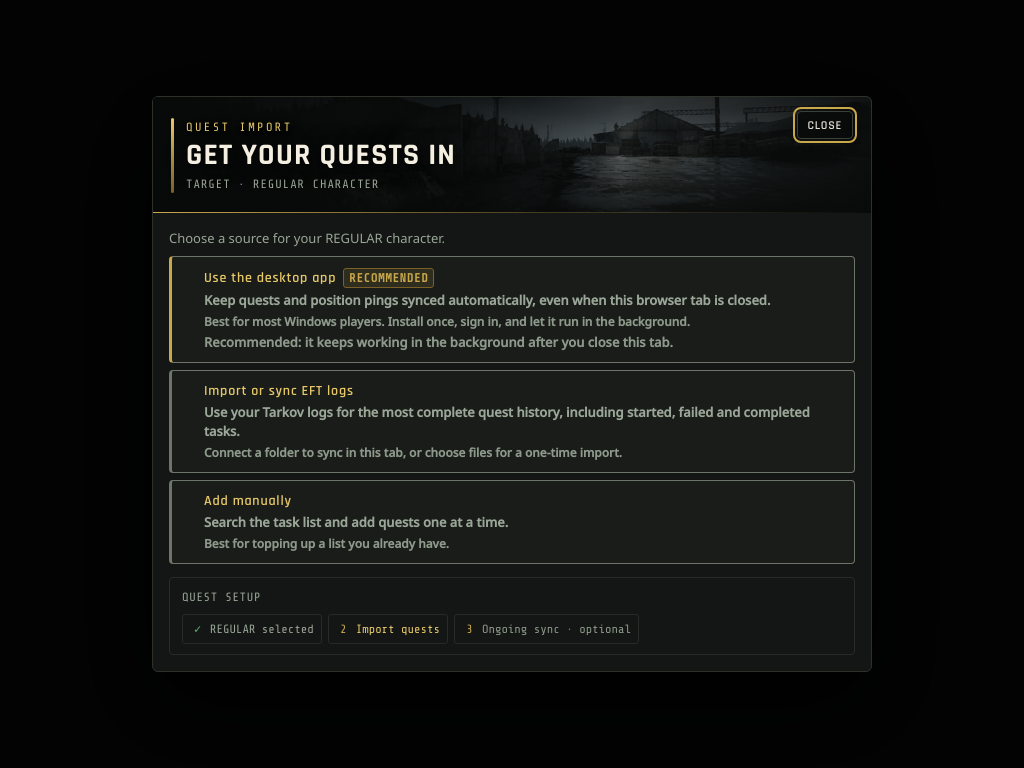
Scenario: QuestImportHub › opens the desktop app download panel immediately
Step 1. Click the button "Use the desktop app" → {"x": 512, "y": 310}, box [169, 256, 855, 363]
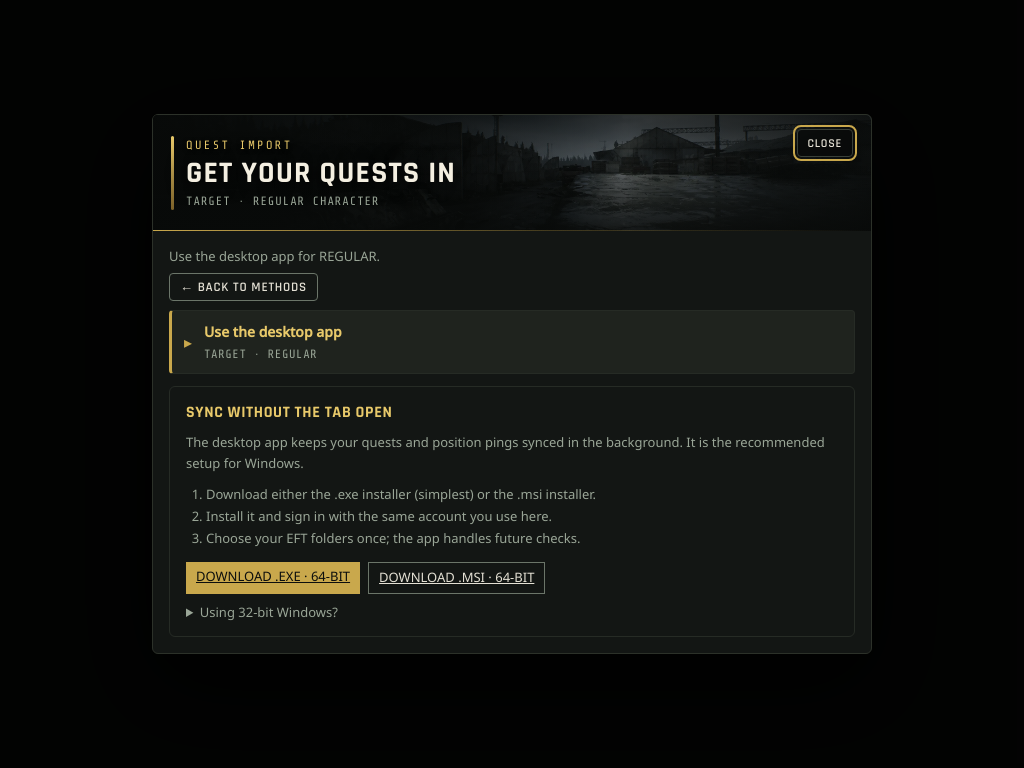
Check: the heading "SYNC WITHOUT THE TAB OPEN" is shown, box [186, 402, 392, 424]
Check: the link "DOWNLOAD .EXE · 64-BIT" is shown, box [186, 562, 360, 594]
Check: the link "DOWNLOAD .MSI · 64-BIT" is shown, box [368, 562, 545, 594]
